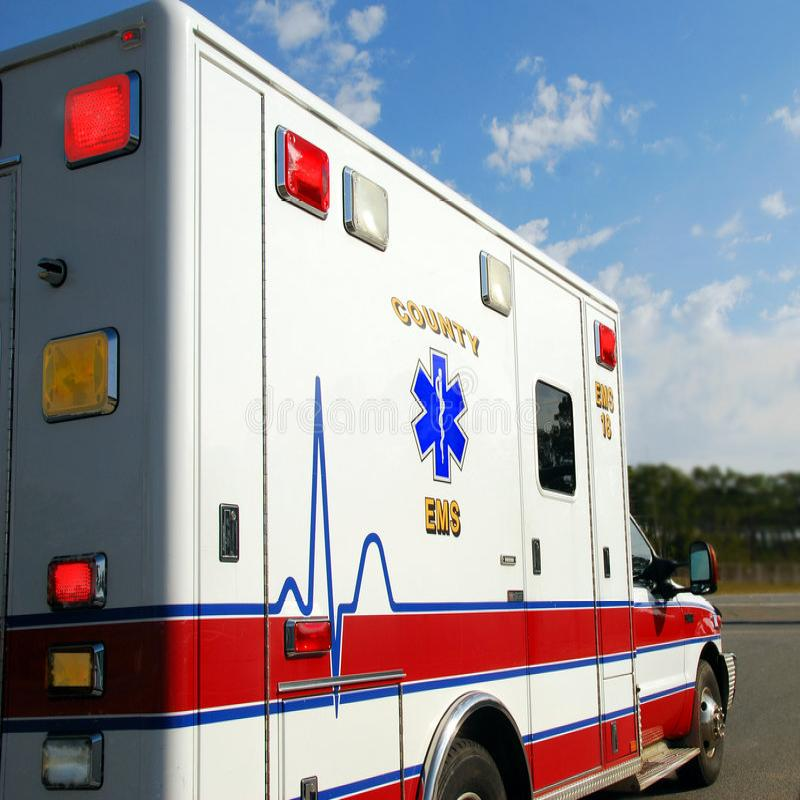ambulance: (5, 0, 738, 800)
